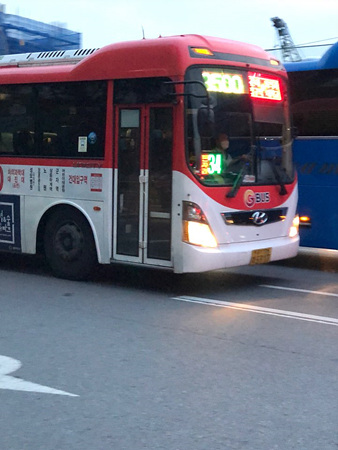entrance: (111, 102, 176, 269)
